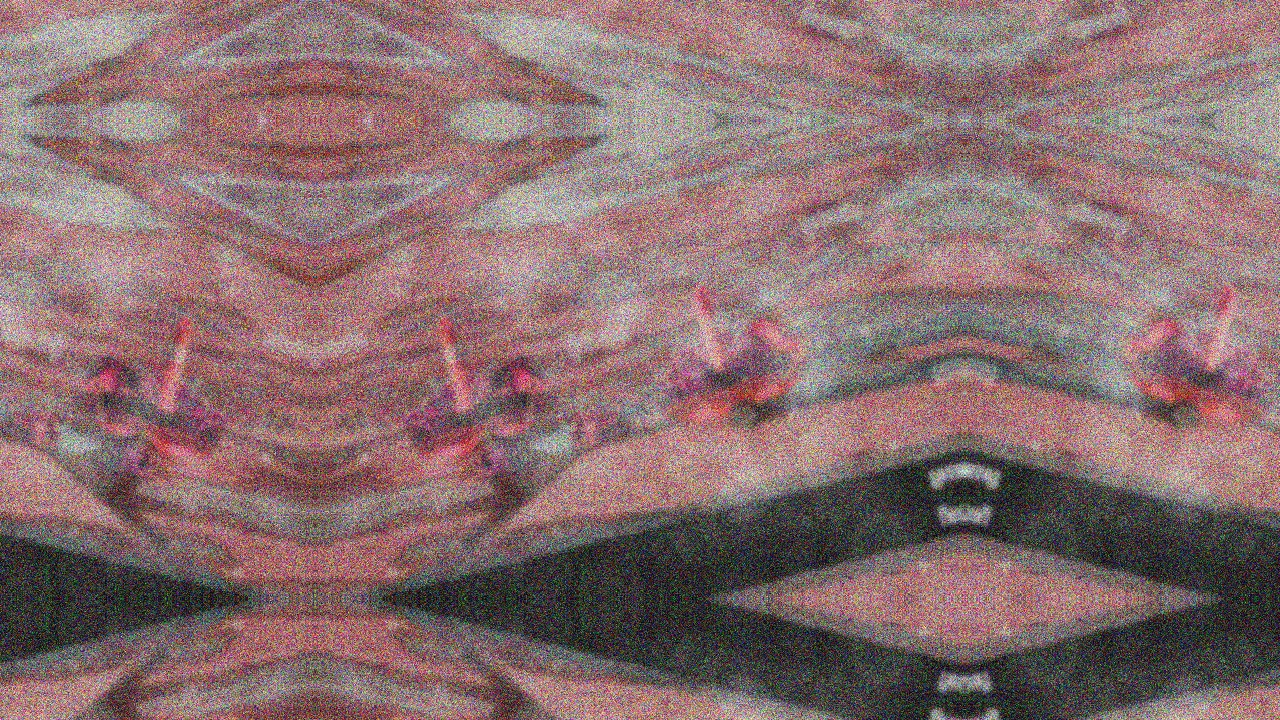chock: (650, 347, 724, 408), (1206, 347, 1280, 408), (559, 401, 639, 457), (715, 329, 784, 388), (1146, 329, 1215, 388), (0, 401, 71, 457), (103, 366, 171, 424), (459, 366, 527, 424), (168, 394, 232, 446), (398, 394, 462, 446), (92, 432, 159, 480), (471, 432, 538, 480), (732, 307, 796, 351), (1134, 307, 1198, 351), (86, 349, 145, 393), (485, 349, 544, 393), (661, 338, 712, 378), (1218, 338, 1269, 378), (172, 378, 201, 407), (429, 378, 458, 407)
wheel: (725, 397, 766, 431), (1164, 397, 1205, 431), (122, 432, 160, 463), (470, 432, 508, 463)
